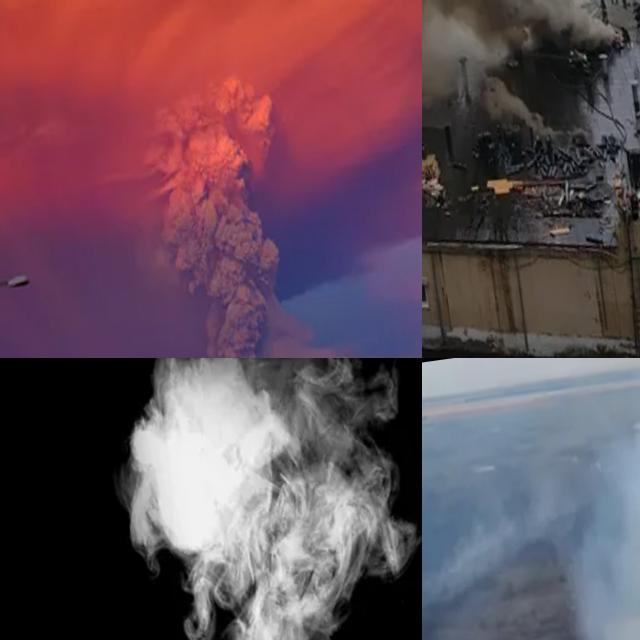smoke: (105, 358, 422, 640), (439, 358, 640, 640), (126, 72, 307, 358), (422, 0, 624, 141)
